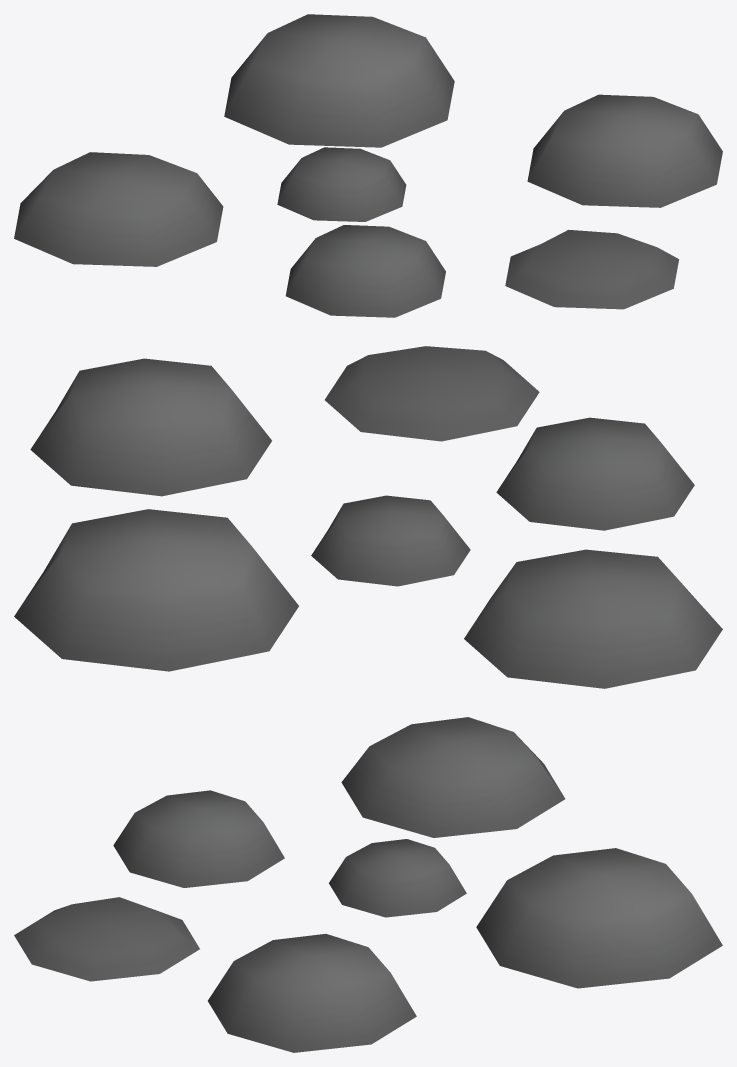
File: Pebles_1_A_2.glb
The picture shows the model from 3 angles, top to bottom: view 1: azimuth 30°, elevation 25°; view 2: azimuth 150°, elevation 25°; view 3: azimuth 270°, elevation 25°; orthographic projection. The views are drawn at different scales.
Parts seen in each view (by area): view 1: Pebles_1_A_2; view 2: Pebles_1_A_2; view 3: Pebles_1_A_2.
Boxes of the visible parts, bbox=[...] form: Pebles_1_A_2: bbox=[14, 14, 722, 317]; Pebles_1_A_2: bbox=[14, 346, 722, 688]; Pebles_1_A_2: bbox=[14, 717, 722, 1052].
Size of the model in its own units: 1.29 by 0.1178 by 1.25.
1 material, 1 textured.
